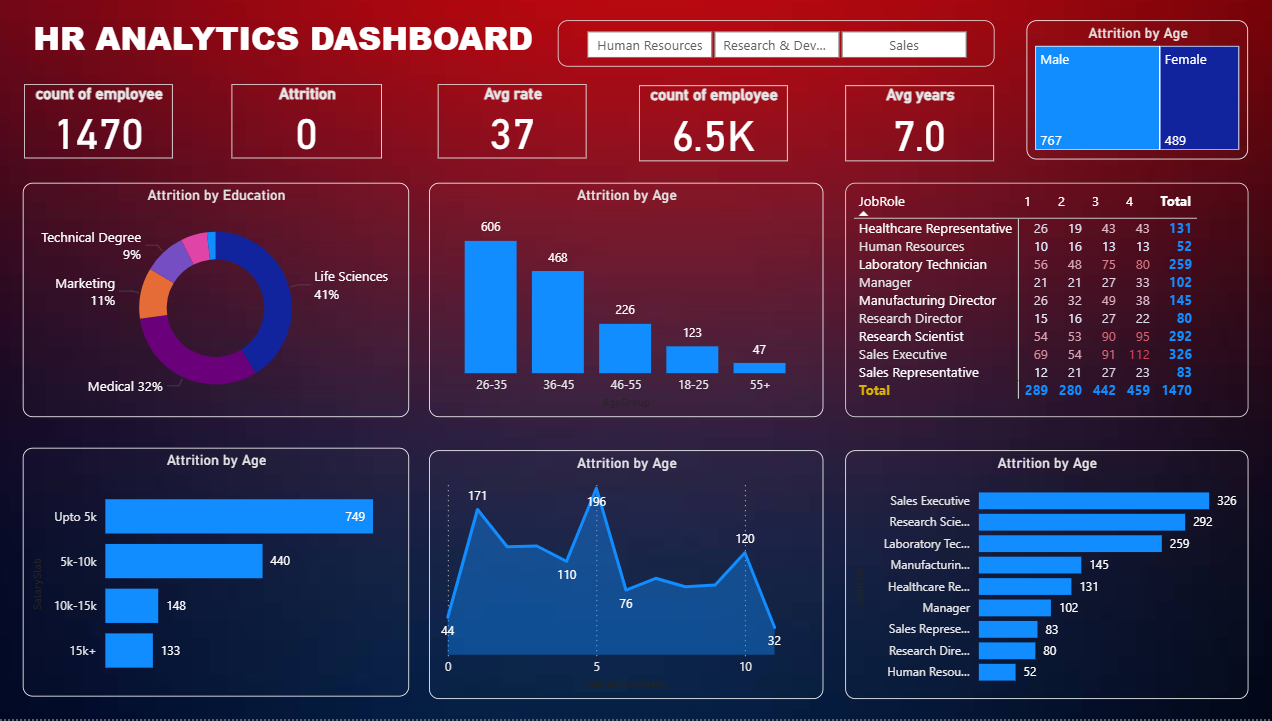

This screenshot's page, from the dashboard's own definition file:
{"tool":"powerbi","page":{"name":"Page 1","canvas":[1280,720],"ordinal":0},"visuals":[{"type":"card","title":"count of employee","fields":{"Values":["CountNonNull(HR_Analytics.EmpID)"]},"box":[24.5,85.6,149.2,74.6],"z":0},{"type":"card","title":"Attrition","fields":{"Values":["Min(HR_Analytics.Atrisioncount)"]},"box":[232.3,85.6,150.4,74.6],"z":1},{"type":"card","title":"Avg rate","fields":{"Values":["Avg(HR_Analytics.Age)"]},"box":[439,85.6,149.2,74.6],"z":2},{"type":"card","title":"Avg years","fields":{"Values":["Avg(HR_Analytics.YearsAtCompany)"]},"box":[846.5,85.6,148.8,75.8],"z":4},{"type":"card","title":"count of employee","fields":{"Values":["Avg(HR_Analytics.MonthlyIncome)"]},"box":[640.1,85.6,148.8,75.8],"z":5},{"type":"donutChart","title":"Attrition by Education","fields":{"Category":["HR_Analytics.EducationField"],"Y":["CountNonNull(HR_Analytics.Atrisioncount)"]},"box":[23.9,183.9,386.1,234.4],"z":6},{"type":"clusteredColumnChart","title":"Attrition by Age","fields":{"Category":["HR_Analytics.AgeGroup"],"Y":["CountNonNull(HR_Analytics.Atrisioncount)"]},"box":[429.6,183.9,394.5,234.4],"z":7},{"type":"pivotTable","title":"Job Satisfaction","fields":{"Rows":["HR_Analytics.JobRole"],"Columns":["HR_Analytics.JobSatisfaction"],"Values":["CountNonNull(HR_Analytics.AgeGroup)"]},"box":[846.5,183.9,402.9,234.4],"z":8},{"type":"clusteredBarChart","title":"Attrition by Age","fields":{"Category":["HR_Analytics.SalarySlab"],"Y":["CountNonNull(HR_Analytics.Atrisioncount)"]},"box":[23.9,449.2,386.1,248.5],"z":9},{"type":"clusteredBarChart","title":"Attrition by Age","fields":{"Y":["CountNonNull(HR_Analytics.Atrisioncount)"],"Category":["HR_Analytics.JobRole"]},"box":[846.5,450.6,402.9,248.5],"z":10},{"type":"areaChart","title":"Attrition by Age","fields":{"Category":["HR_Analytics.YearsAtCompany"],"Y":["CountNonNull(HR_Analytics.Atrisioncount)"]},"box":[429.6,450.6,394.5,248.5],"z":11},{"type":"treemap","title":"Attrition by Age","fields":{"Group":["HR_Analytics.Gender"],"Values":["CountNonNull(HR_Analytics.Atrisioncount)"]},"box":[1027.6,21.1,221.8,139],"z":12},{"type":"slicer","fields":{"Values":["HR_Analytics.Department"]},"box":[558.7,21.1,436.6,46.3],"z":13},{"type":"textbox","box":[23.9,11.2,520.8,56.2],"z":14}]}

Visuals, with their boxes in screenshot pixels (x1, y1, x2, y2), scaled from the page's 1280x720 canvas onto the 1272x721 screenshot:
"count of employee" card: <bbox>24, 86, 173, 160</bbox>
"Attrition" card: <bbox>231, 86, 380, 160</bbox>
"Avg rate" card: <bbox>436, 86, 585, 160</bbox>
"Avg years" card: <bbox>841, 86, 989, 162</bbox>
"count of employee" card: <bbox>636, 86, 784, 162</bbox>
"Attrition by Education" donutChart: <bbox>24, 184, 407, 419</bbox>
"Attrition by Age" clusteredColumnChart: <bbox>427, 184, 819, 419</bbox>
"Job Satisfaction" pivotTable: <bbox>841, 184, 1242, 419</bbox>
"Attrition by Age" clusteredBarChart: <bbox>24, 450, 407, 699</bbox>
"Attrition by Age" clusteredBarChart: <bbox>841, 451, 1242, 700</bbox>
"Attrition by Age" areaChart: <bbox>427, 451, 819, 700</bbox>
"Attrition by Age" treemap: <bbox>1021, 21, 1242, 160</bbox>
slicer - HR_Analytics.Department: <bbox>555, 21, 989, 67</bbox>
textbox: <bbox>24, 11, 541, 67</bbox>
